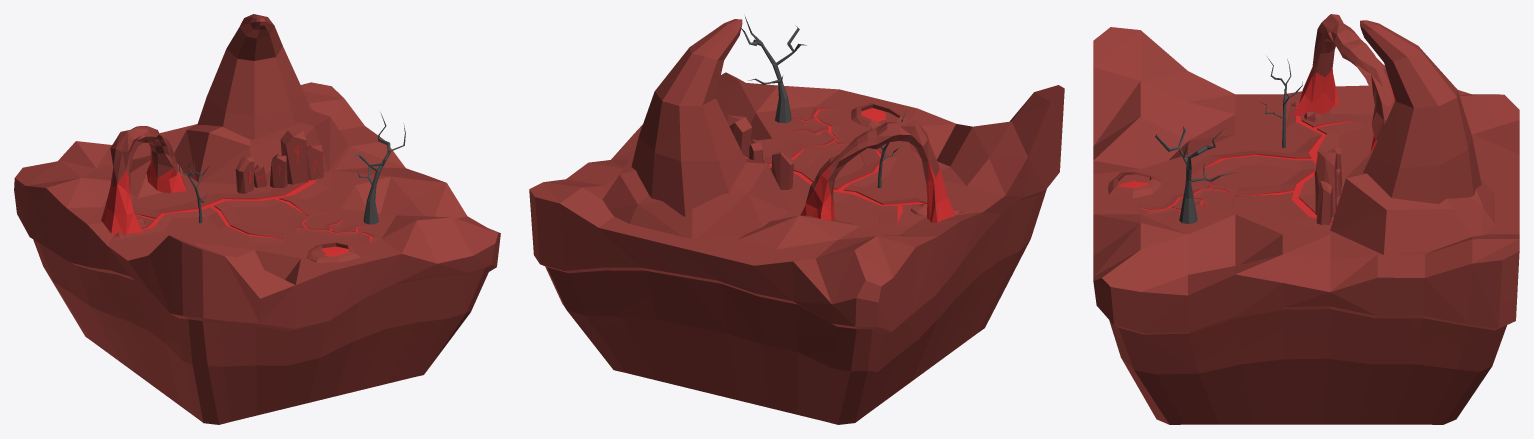
File: Island_6.glb
3 views of the same model, side by side, from view 1: azimuth 30°, elevation 25°; view 2: azimuth 150°, elevation 25°; view 3: azimuth 270°, elevation 25° (orthographic). The views are drawn at different scales.
Parts seen in each view (by area): view 1: Isl6_Base, Isl6_Mountain_1, Isl6_Rock_1, Isl6_Stones_with_runes, Isl6_Tree_1, Isl6_Puddle; view 2: Isl6_Base, Isl6_Mountain_1, Isl6_Rock_1, Isl6_Stones_with_runes, Isl6_Tree_1, Isl6_Puddle; view 3: Isl6_Base, Isl6_Mountain_1, Isl6_Rock_1, Isl6_Stones_with_runes, Isl6_Tree_1, Isl6_Puddle, Isl6_Tree_2.
Part boxes in pixels (x1,y1,x2,y2): Isl6_Base: [14, 82, 500, 424]; Isl6_Mountain_1: [174, 14, 348, 184]; Isl6_Rock_1: [101, 126, 185, 234]; Isl6_Stones_with_runes: [235, 130, 323, 193]; Isl6_Tree_1: [353, 112, 405, 224]; Isl6_Puddle: [307, 242, 360, 263]; Isl6_Base: [529, 72, 1064, 424]; Isl6_Mountain_1: [602, 19, 790, 238]; Isl6_Rock_1: [800, 120, 955, 222]; Isl6_Stones_with_runes: [727, 115, 793, 189]; Isl6_Tree_1: [741, 16, 806, 123]; Isl6_Puddle: [851, 103, 907, 128]; Isl6_Base: [1093, 27, 1519, 424]; Isl6_Mountain_1: [1330, 20, 1494, 254]; Isl6_Rock_1: [1292, 14, 1395, 152]; Isl6_Stones_with_runes: [1314, 147, 1341, 224]; Isl6_Tree_1: [1155, 126, 1236, 223]; Isl6_Puddle: [1108, 171, 1161, 198]; Isl6_Tree_2: [1260, 57, 1302, 147].
Bounding box in the file's own units: 20 × 18.53 × 20.
Materials: 1 (1 with a texture image).
